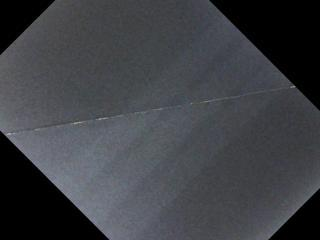crack: (2, 83, 298, 138)
